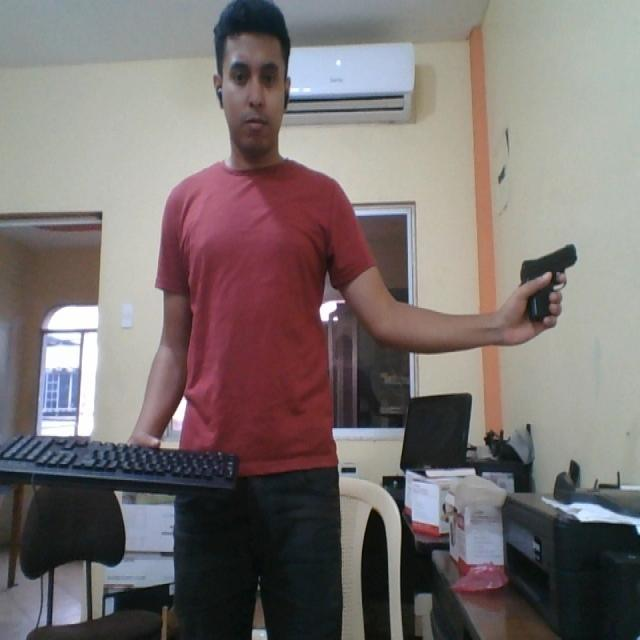weapon: (519, 241, 578, 323)
